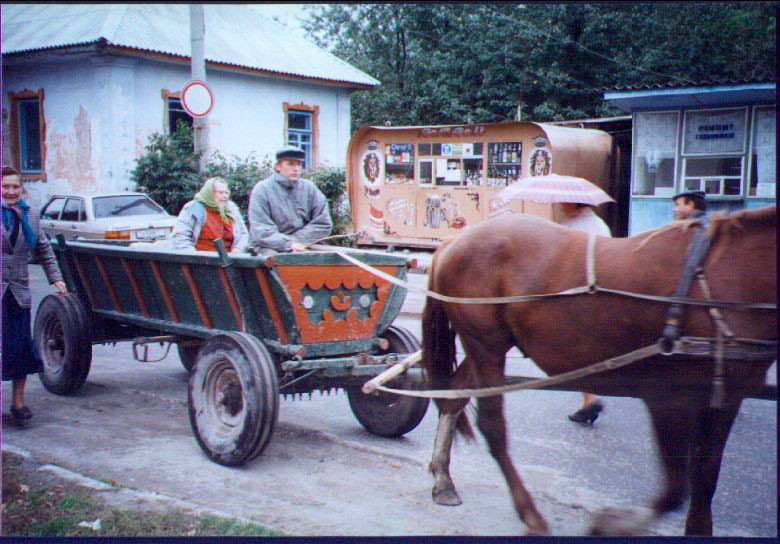horse: (419, 203, 777, 535)
